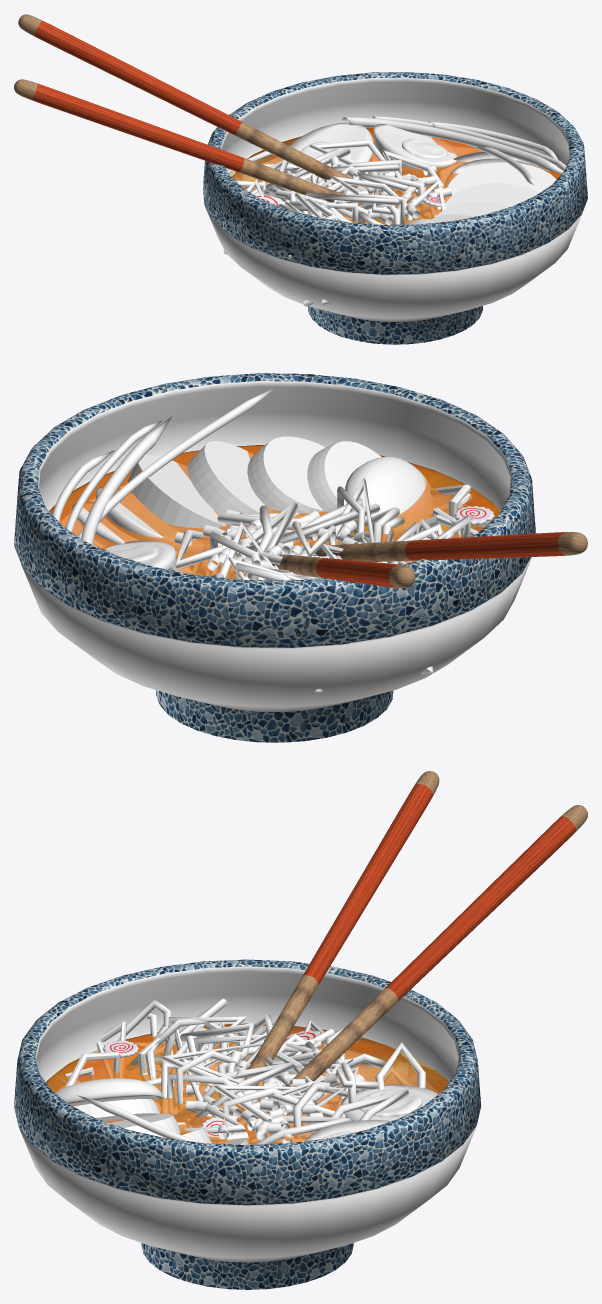
The model's file is Doshirak.compressed.glb.
The picture shows the model from 3 angles, top to bottom: view 1: azimuth 30°, elevation 25°; view 2: azimuth 150°, elevation 25°; view 3: azimuth 270°, elevation 25°; orthographic projection. The views are drawn at different scales.
Parts seen in each view (by area): view 1: Circle, Куб.005, Plane, КриваяNurbs, Куб, Cube, Circle.001, Circle.002; view 2: Circle, Куб, Plane, КриваяNurbs, Куб.005, Circle.001, Circle.002, Cube, Окружность.001; view 3: Circle, Plane, Куб.005, Circle.001, КриваяNurbs, Куб, Circle.002, Cube, Окружность.001.
Part boxes in pixels (x1=…): Circle: x1=203, y1=72, x2=587, y2=344; Куб.005: x1=14, y1=14, x2=429, y2=222; Plane: x1=223, y1=140, x2=445, y2=306; КриваяNurbs: x1=305, y1=116, x2=566, y2=224; Куб: x1=407, y1=151, x2=556, y2=224; Cube: x1=286, y1=122, x2=458, y2=177; Circle.001: x1=231, y1=127, x2=561, y2=224; Circle.002: x1=229, y1=128, x2=560, y2=224; Circle: x1=14, y1=373, x2=535, y2=742; Куб: x1=72, y1=436, x2=435, y2=558; Plane: x1=168, y1=478, x2=493, y2=692; КриваяNurbs: x1=52, y1=386, x2=369, y2=575; Куб.005: x1=272, y1=532, x2=587, y2=588; Circle.001: x1=49, y1=445, x2=499, y2=578; Circle.002: x1=51, y1=446, x2=500, y2=577; Cube: x1=102, y1=540, x2=176, y2=569; Окружность.001: x1=244, y1=506, x2=494, y2=532; Circle: x1=14, y1=959, x2=481, y2=1289; Plane: x1=63, y1=998, x2=425, y2=1144; Куб.005: x1=211, y1=771, x2=587, y2=1143; Circle.001: x1=46, y1=1023, x2=448, y2=1144; КриваяNurbs: x1=77, y1=1050, x2=365, y2=1144; Куб: x1=55, y1=1078, x2=248, y2=1144; Circle.002: x1=48, y1=1024, x2=448, y2=1144; Cube: x1=304, y1=1084, x2=438, y2=1141; Окружность.001: x1=103, y1=1030, x2=323, y2=1141.
Size of the model in its own units: 6.22 by 3.14 by 5.41.
12 materials, 3 textured.
